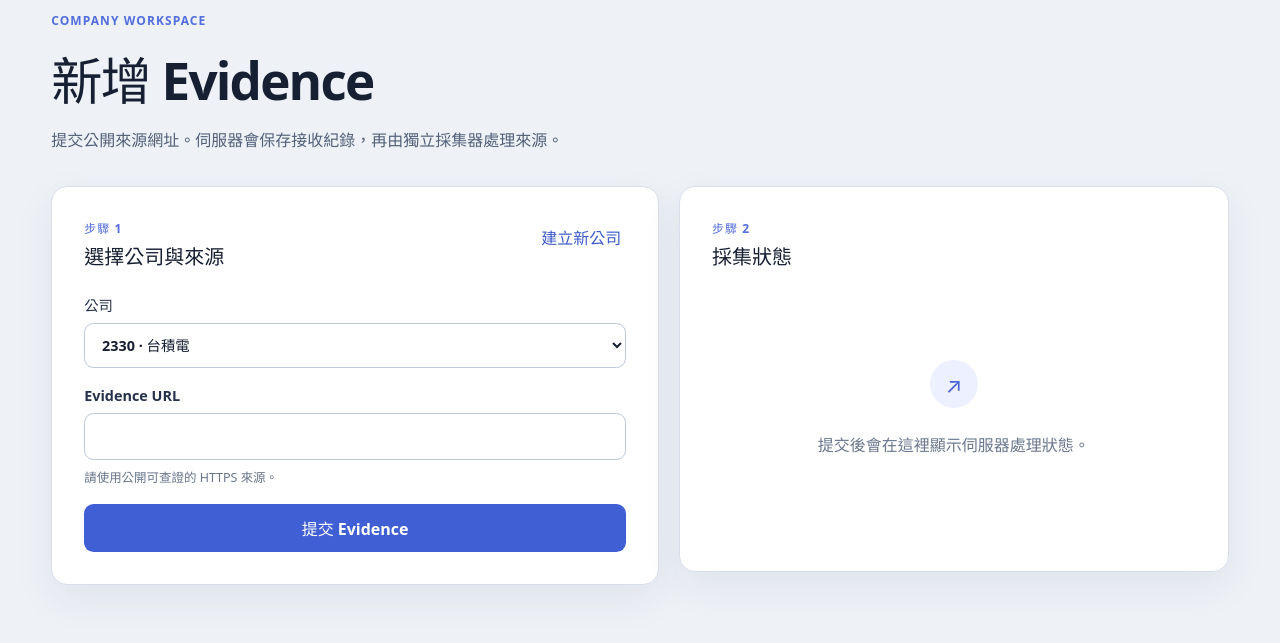
Scenario: creates a pending shadow assessment and renders a server would-be-Hard trace without formal Hard
The image size is (1280, 643).
Step 1. Type "https://example.com/a" into the field labelled "Evidence URL" → (355, 436), box [84,413,626,460]
Step 2. Click the button "提交 Evidence" → (355, 528), box [84,504,626,552]
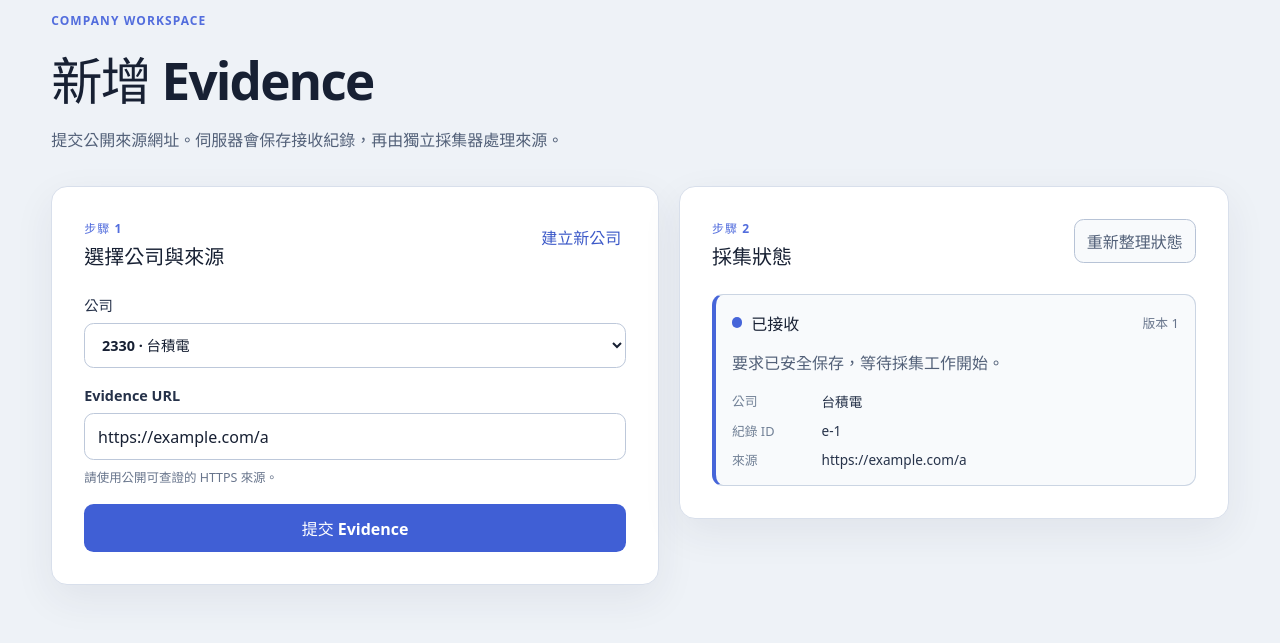
Step 3. Click the button "重新整理狀態" → (1135, 241), box [1074,219,1196,263]
(page scrolled)
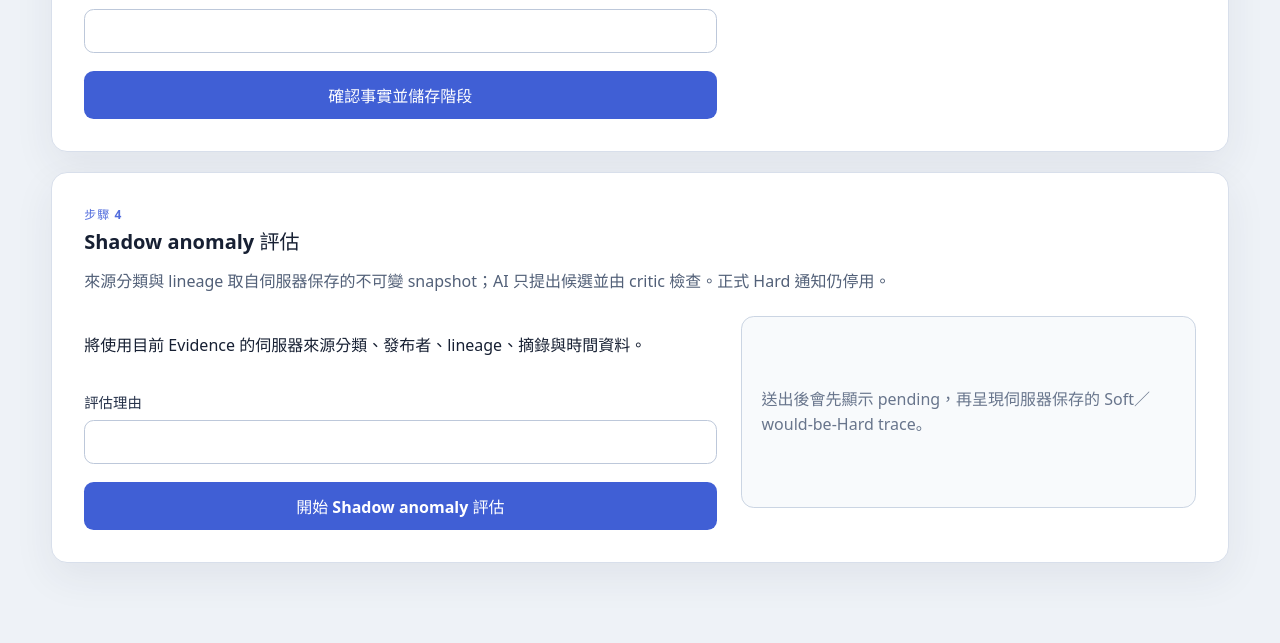
Step 4. Type "review disclosure" into the field labelled "評估理由" → (400, 442), box [84,420,716,464]
Step 5. Click the button "開始 Shadow anomaly 評估" → (400, 506), box [84,482,716,530]
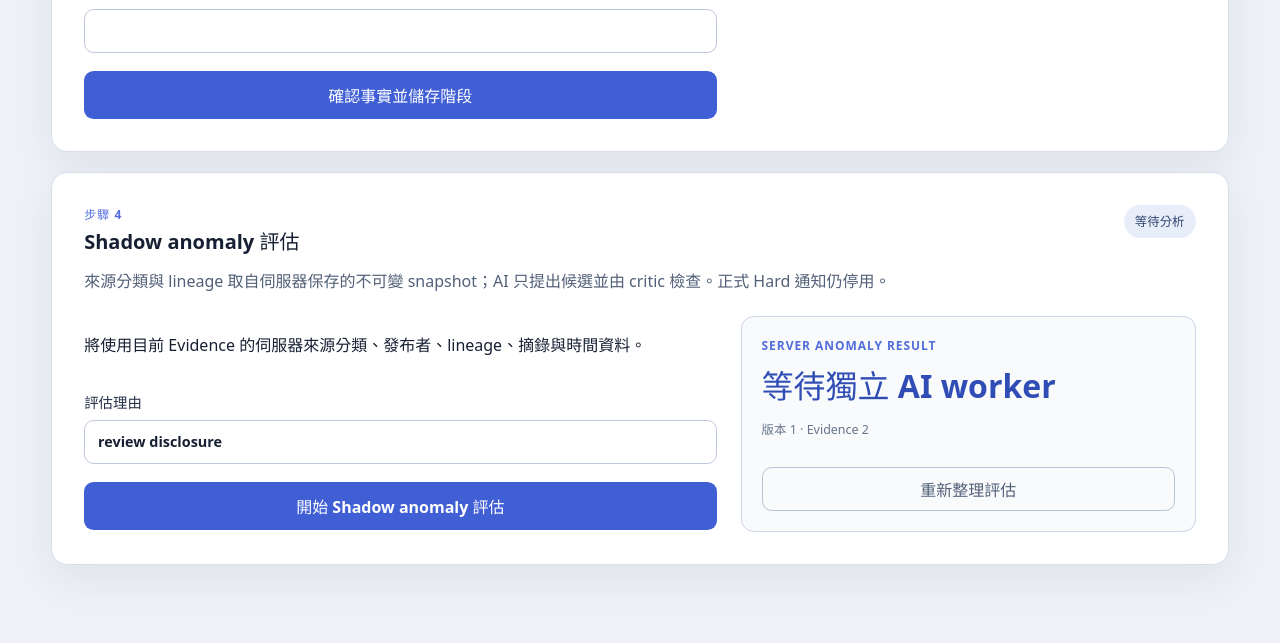
Expected: the text "等待獨立 AI worker" is shown, [762,364,1056,407]
Step 6. Click the button "重新整理評估" → (968, 489), box [762,467,1175,511]
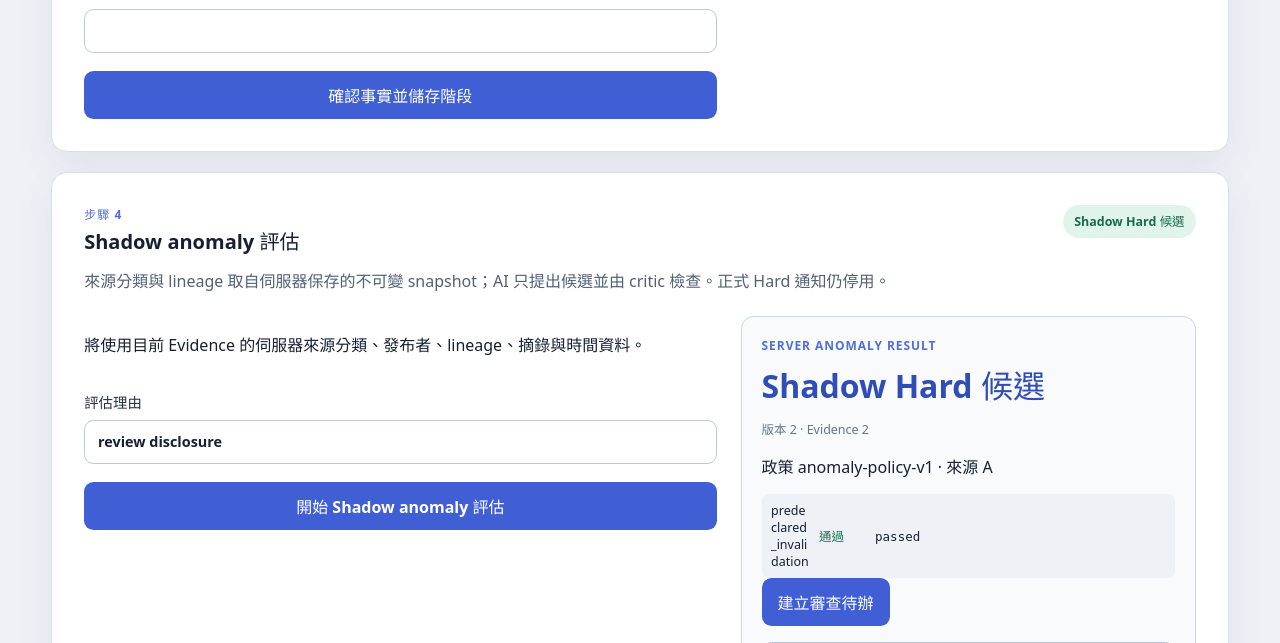
Expected: the text "Shadow Hard 候選" is shown 2 times, [1063,205,1196,238]; [762,364,1045,407]
Expected: the text "正式 Hard 通知仍停用" is shown, [84,270,890,292]
Step 7. Click the button "建立審查待辦" → (826, 602), box [762,578,890,626]
(page scrolled)
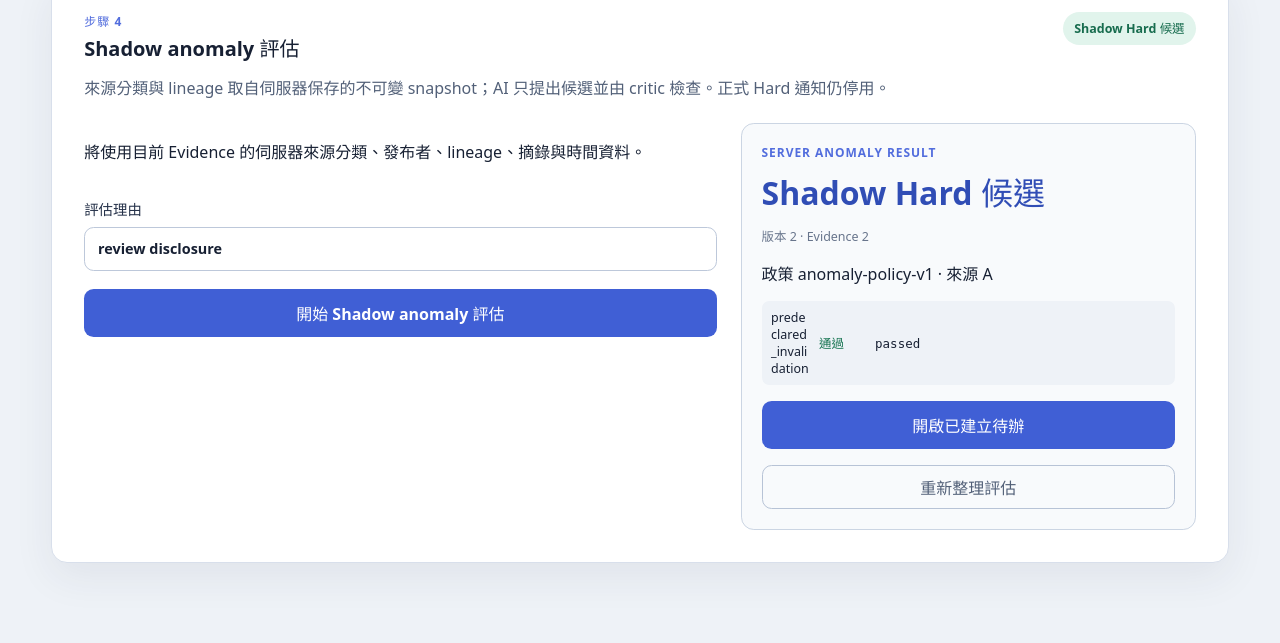
Step 8. Click the button "重新整理評估" → (968, 487), box [762,465,1175,509]
(page scrolled)
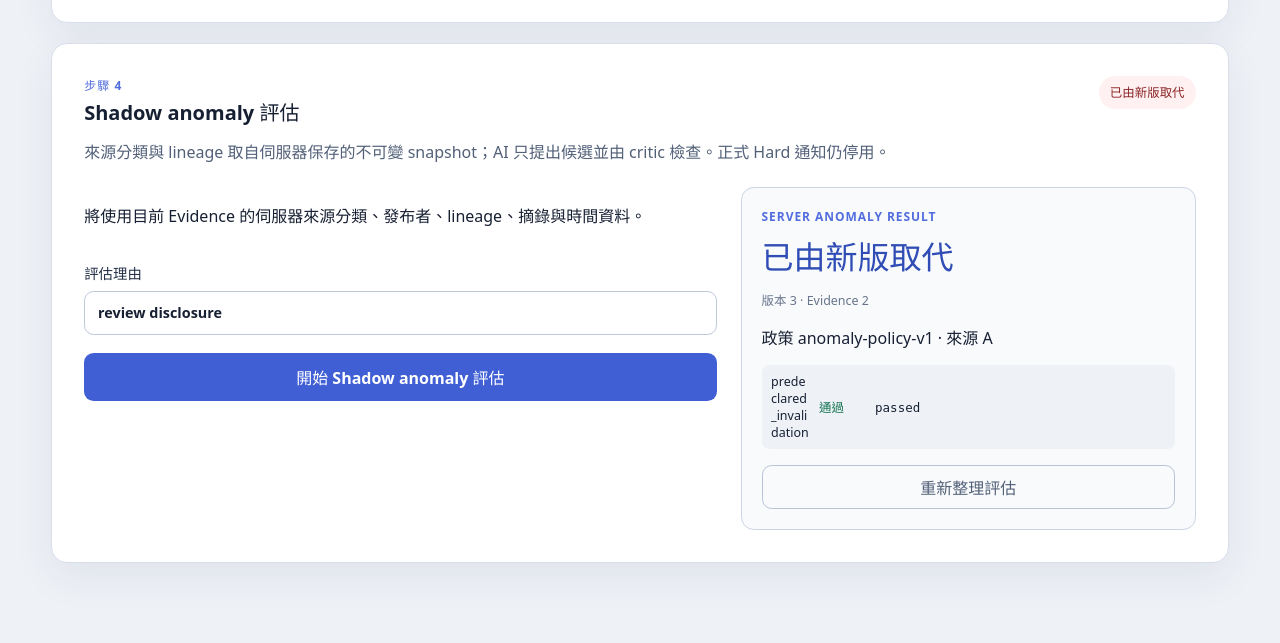
Expected: the text "已由新版取代" is shown 2 times, [1099,76,1196,109]; [762,235,954,278]
Expected: the text "Shadow Hard 候選" is gone
